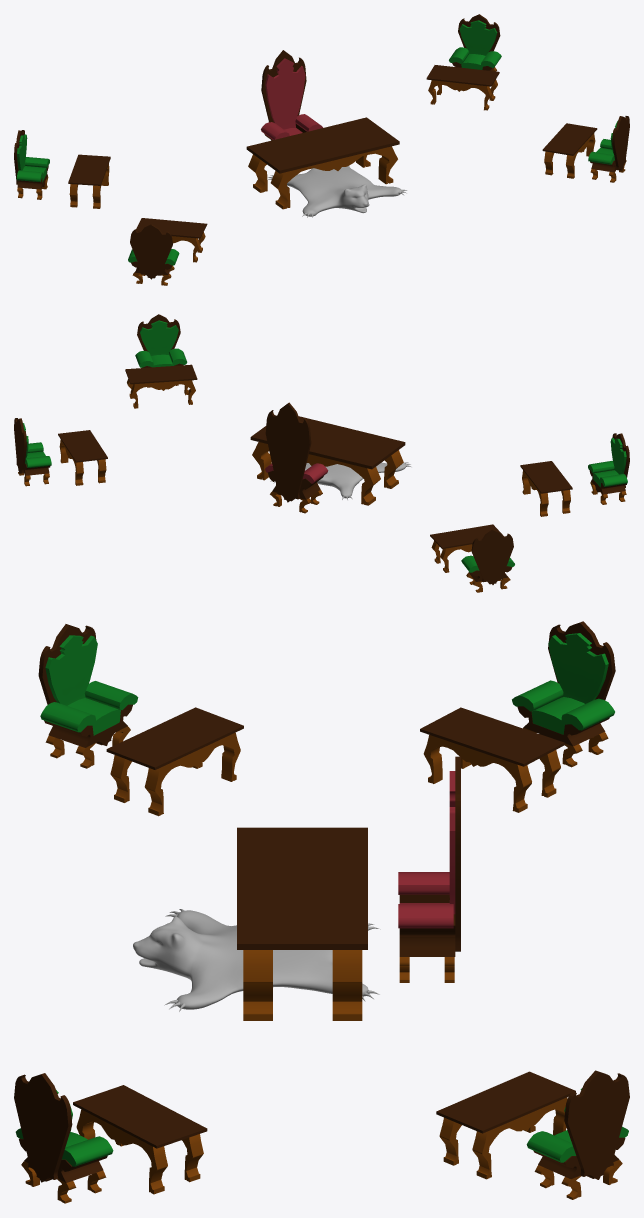
The model's file is Chairs_table.fbx.
The picture shows the model from 3 angles, top to bottom: view 1: azimuth 30°, elevation 25°; view 2: azimuth 150°, elevation 25°; view 3: azimuth 270°, elevation 25°; orthographic projection. The views are drawn at different scales.
Parts seen in each view (by area): view 1: YXU_Table_big, YXU_Chair_big, YXU_Polarbearrug, YXU_Chair_small2, YXU_Chair_small, YXU_Table_small, YXU_Table_small1, YXU_Chair_small3, YXU_Table_small3, YXU_Chair_small1, YXU_Table_small2; view 2: YXU_Table_big, YXU_Chair_big, YXU_Chair_small1, YXU_Chair_small3, YXU_Chair_small2, YXU_Table_small1, YXU_Table_small2, YXU_Table_small, YXU_Chair_small, YXU_Table_small3, YXU_Polarbearrug; view 3: YXU_Table_big, YXU_Polarbearrug, YXU_Chair_small1, YXU_Chair_small2, YXU_Chair_small, YXU_Chair_big, YXU_Chair_small3, YXU_Table_small3, YXU_Table_small2, YXU_Table_small, YXU_Table_small1.
Part boxes in pixels (left/top/right/bottom): YXU_Table_big: left=246, top=117, right=399, bottom=209; YXU_Chair_big: left=261, top=50, right=323, bottom=140; YXU_Polarbearrug: left=287, top=166, right=401, bottom=216; YXU_Chair_small2: left=128, top=224, right=179, bottom=285; YXU_Chair_small: left=449, top=14, right=501, bottom=71; YXU_Table_small: left=426, top=65, right=499, bottom=110; YXU_Table_small1: left=542, top=123, right=597, bottom=178; YXU_Chair_small3: left=588, top=116, right=629, bottom=182; YXU_Table_small3: left=68, top=154, right=110, bottom=208; YXU_Chair_small1: left=14, top=130, right=49, bottom=199; YXU_Table_small2: left=136, top=218, right=207, bottom=262; YXU_Table_big: left=250, top=416, right=405, bottom=505; YXU_Chair_big: left=265, top=402, right=328, bottom=513; YXU_Chair_small1: left=461, top=529, right=514, bottom=592; YXU_Chair_small3: left=135, top=314, right=187, bottom=387; YXU_Chair_small2: left=588, top=433, right=629, bottom=504; YXU_Table_small1: left=125, top=364, right=197, bottom=408; YXU_Table_small2: left=520, top=461, right=572, bottom=516; YXU_Table_small: left=58, top=430, right=107, bottom=485; YXU_Chair_small: left=14, top=418, right=51, bottom=486; YXU_Table_small3: left=430, top=524, right=503, bottom=572; YXU_Polarbearrug: left=305, top=462, right=405, bottom=498; YXU_Table_big: left=237, top=827, right=367, bottom=1020; YXU_Polarbearrug: left=133, top=910, right=368, bottom=1009; YXU_Chair_small1: left=512, top=621, right=615, bottom=767; YXU_Chair_small2: left=38, top=624, right=138, bottom=768; YXU_Chair_small: left=526, top=1070, right=629, bottom=1199; YXU_Chair_big: left=398, top=756, right=460, bottom=982; YXU_Chair_small3: left=14, top=1073, right=113, bottom=1203; YXU_Table_small3: left=420, top=707, right=564, bottom=812; YXU_Table_small2: left=106, top=707, right=243, bottom=816; YXU_Table_small: left=436, top=1071, right=575, bottom=1179; YXU_Table_small1: left=73, top=1085, right=207, bottom=1194.
Size of the model in its own units: 1235 by 255 by 671.
